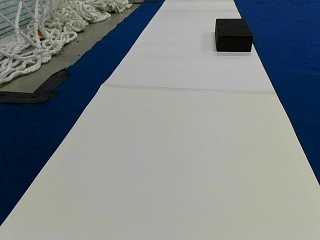block: (215, 19, 253, 52)
